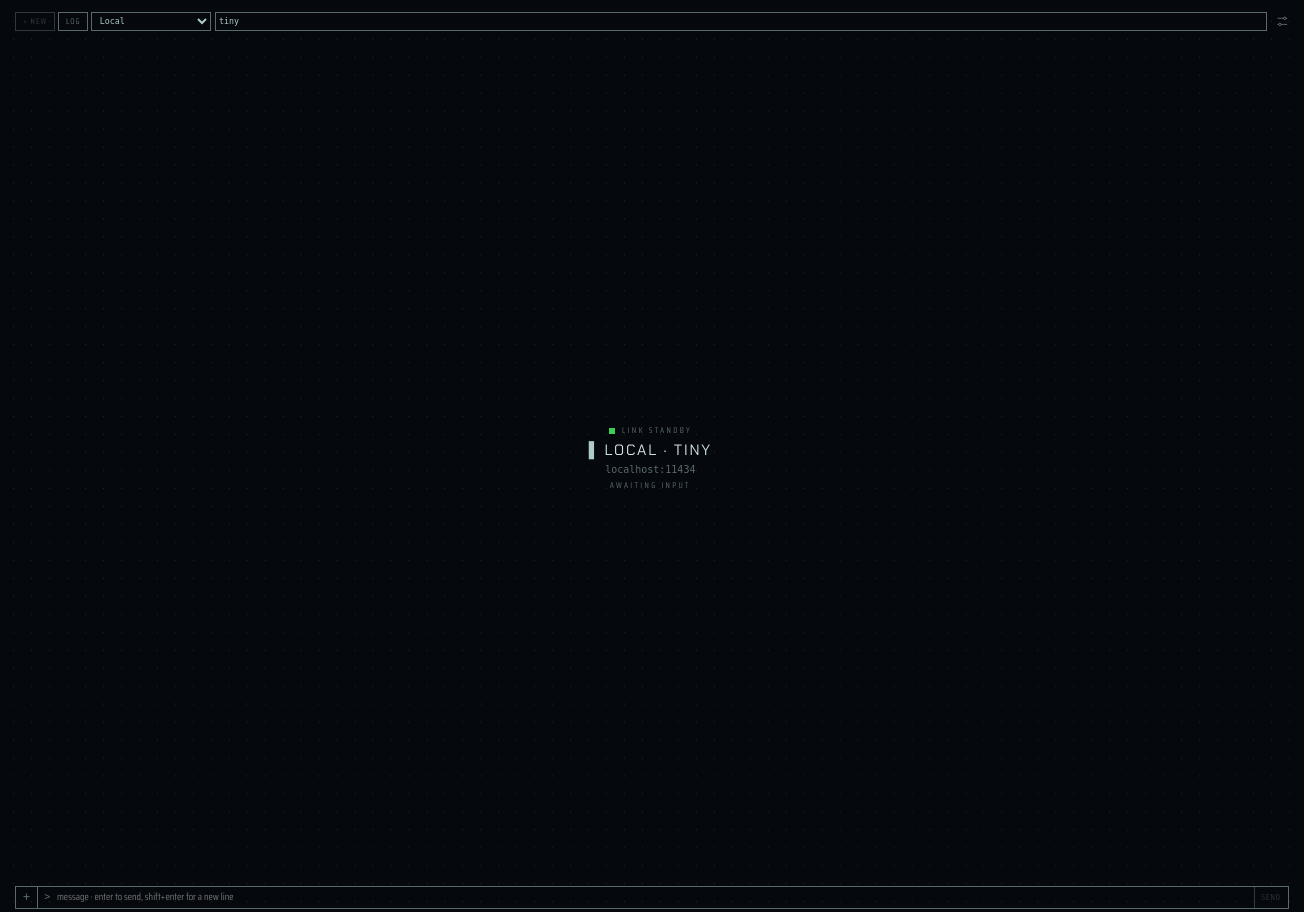
AiChatWidget › a message that is refused keeps the draft, says why, and leaves no empty conversation
This screenshot has width=1304, height=912.
Type "hello" into the text box with test id "aichat-input" at (652, 897), box [50,887,1254,908]
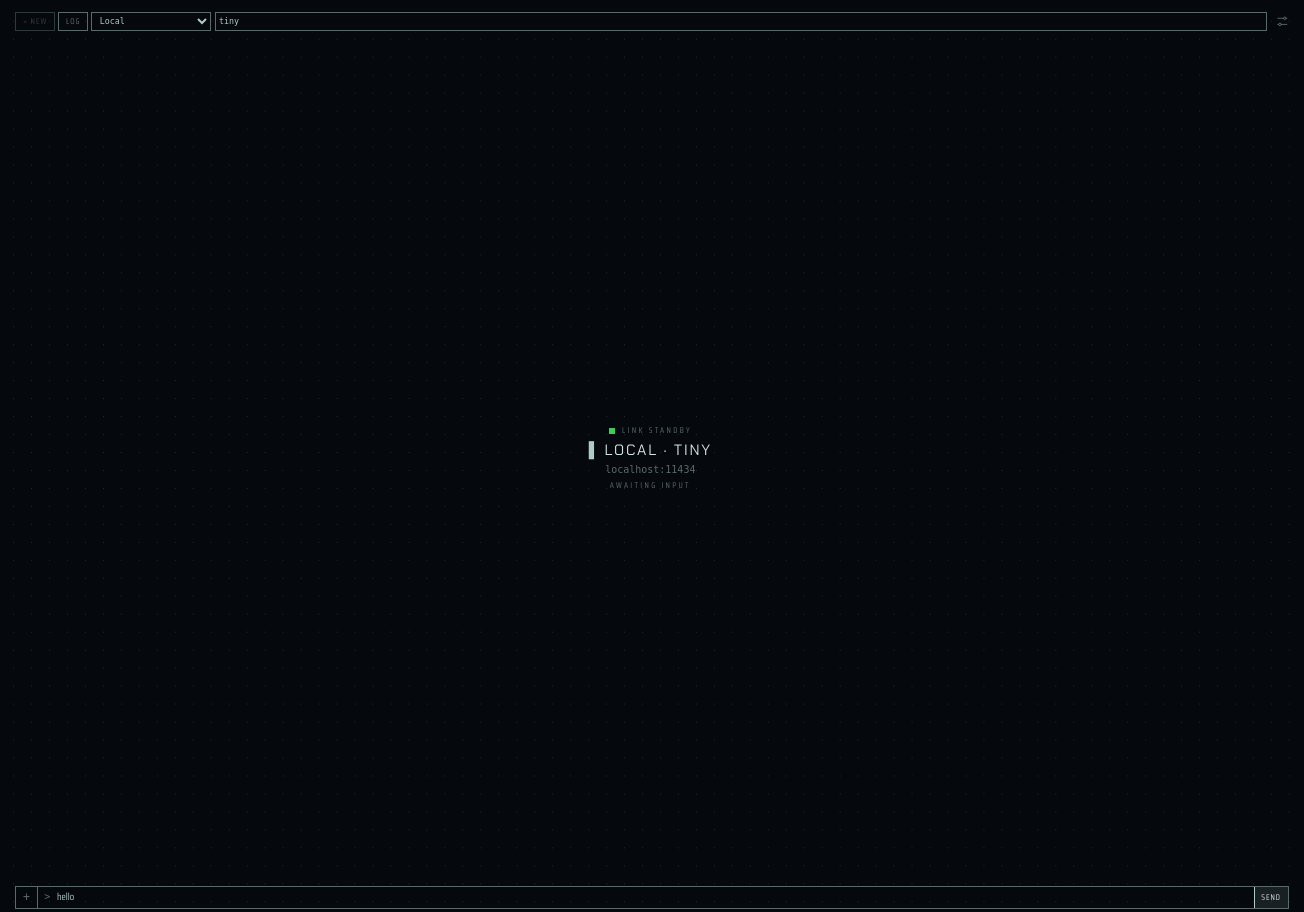
Press Enter in the text box with test id "aichat-input", box [50,887,1254,908]
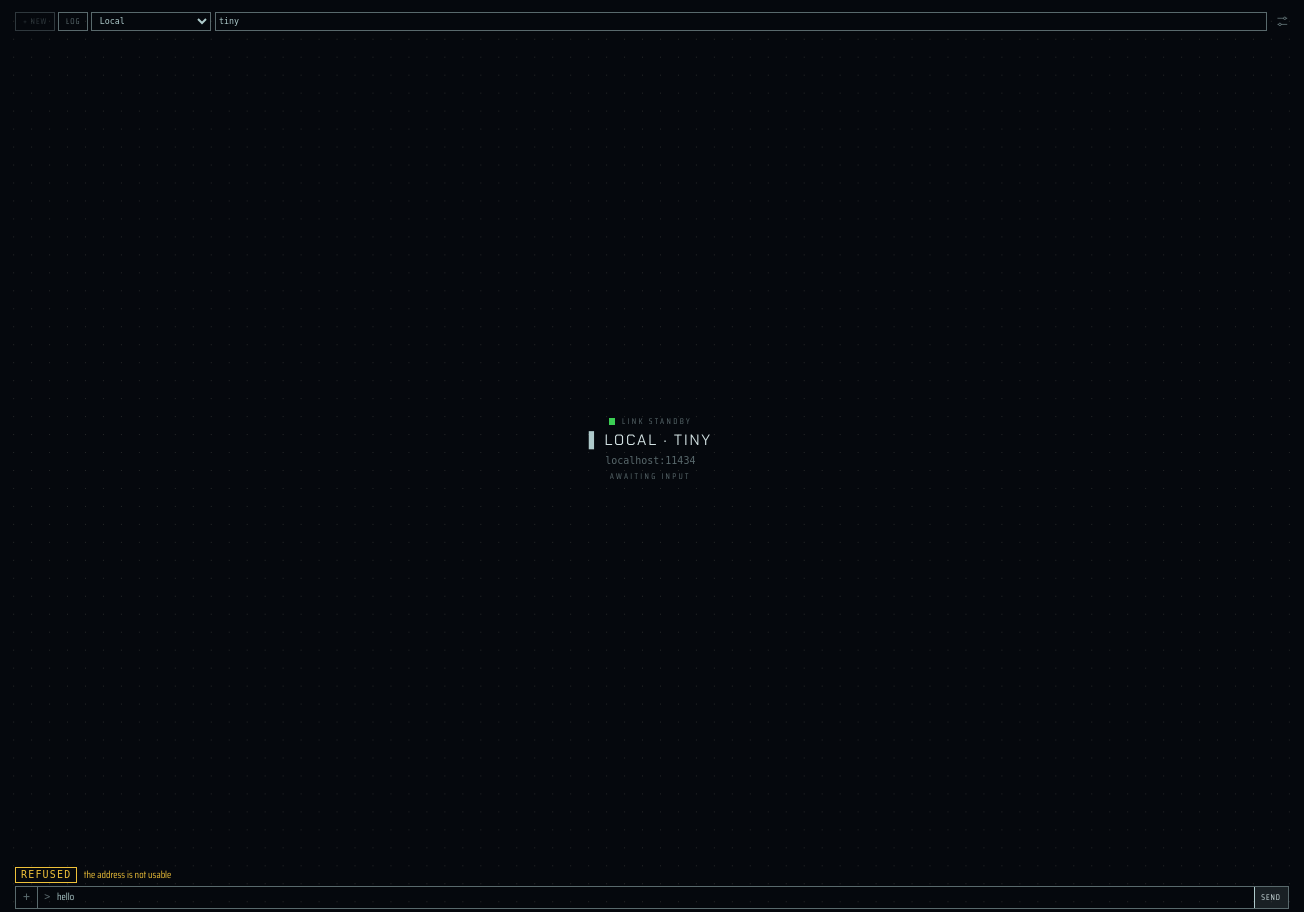
Check: the text with class "code" reads "refused", box [21,869,72,880]
Check: the text with class "detail" reads "the address is not usable", box [84,867,171,882]
